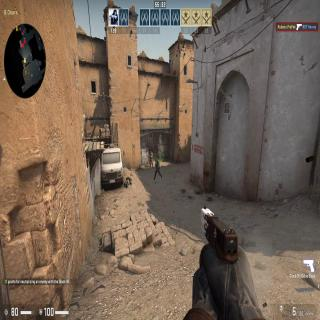CT-Body: (153, 159, 161, 178), (150, 151, 152, 165)
CT-Head: (156, 159, 158, 164), (150, 151, 152, 155)
